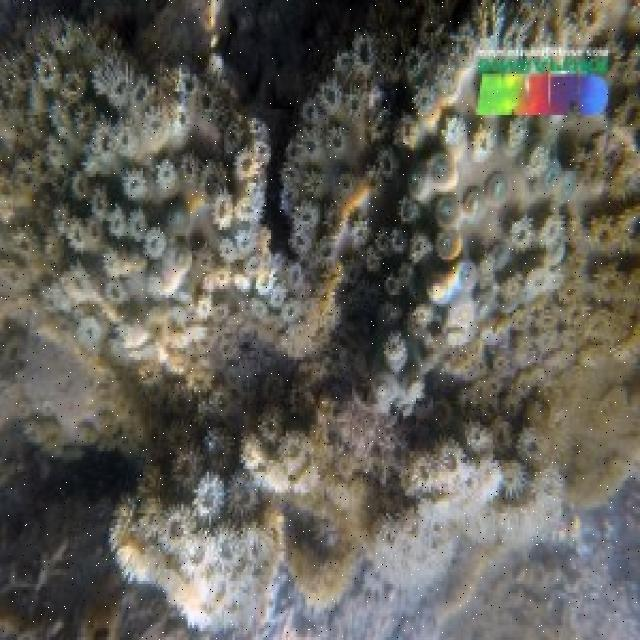Bleached: (113, 403, 553, 621), (56, 120, 287, 362), (418, 58, 563, 330)
Healthy: (573, 207, 640, 491)
